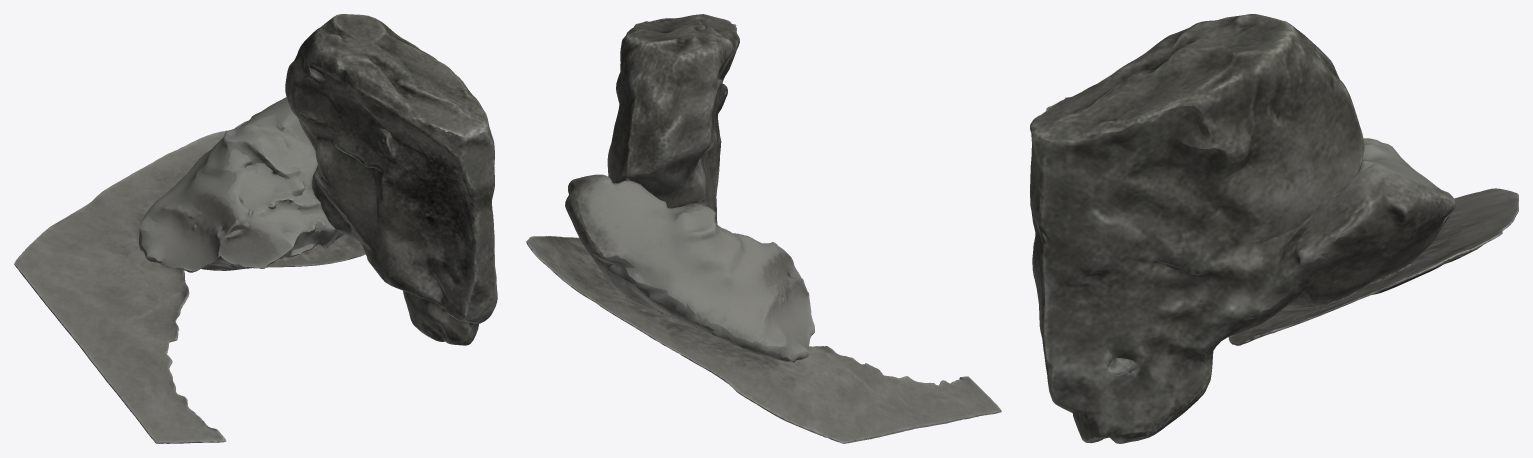
The picture shows the model from 3 angles, left to right: view 1: azimuth 30°, elevation 25°; view 2: azimuth 150°, elevation 25°; view 3: azimuth 270°, elevation 25°; orthographic projection. The views are drawn at different scales.
Parts seen in each view (by area): view 1: world; view 2: world; view 3: world.
Part boxes in pixels (x1,y1,x2,y2): world: (14,14,497,443); world: (526,14,1001,443); world: (1030,14,1518,443).
Bounding box in the file's own units: 1.56 × 1.5 × 1.55.
1 material, 1 textured.
